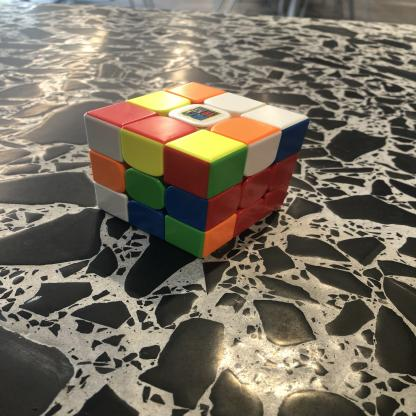UnsolvedCube: (73, 76, 313, 263)
